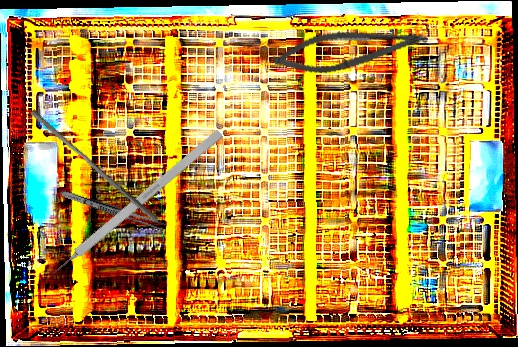Dressing Forceps: (57, 187, 169, 233)
Hook Surgical: (41, 128, 224, 285)
Micro Scissor: (270, 12, 431, 84)
Pusher: (26, 109, 164, 223)
